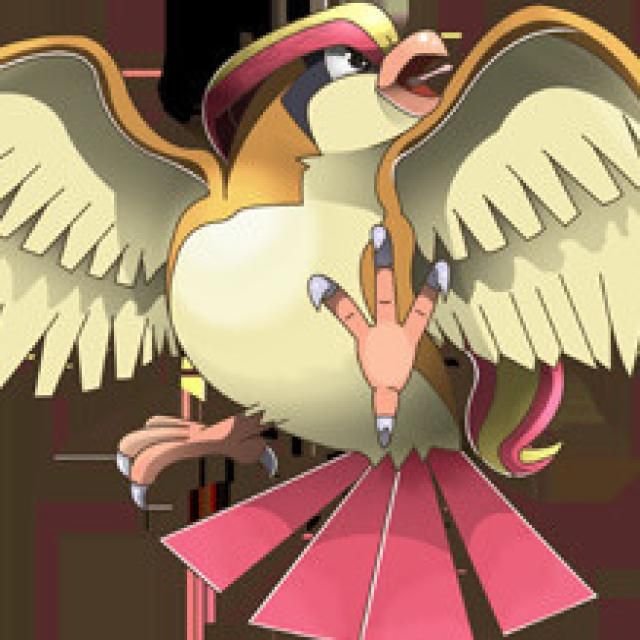Pidgeot: (17, 0, 603, 632)
